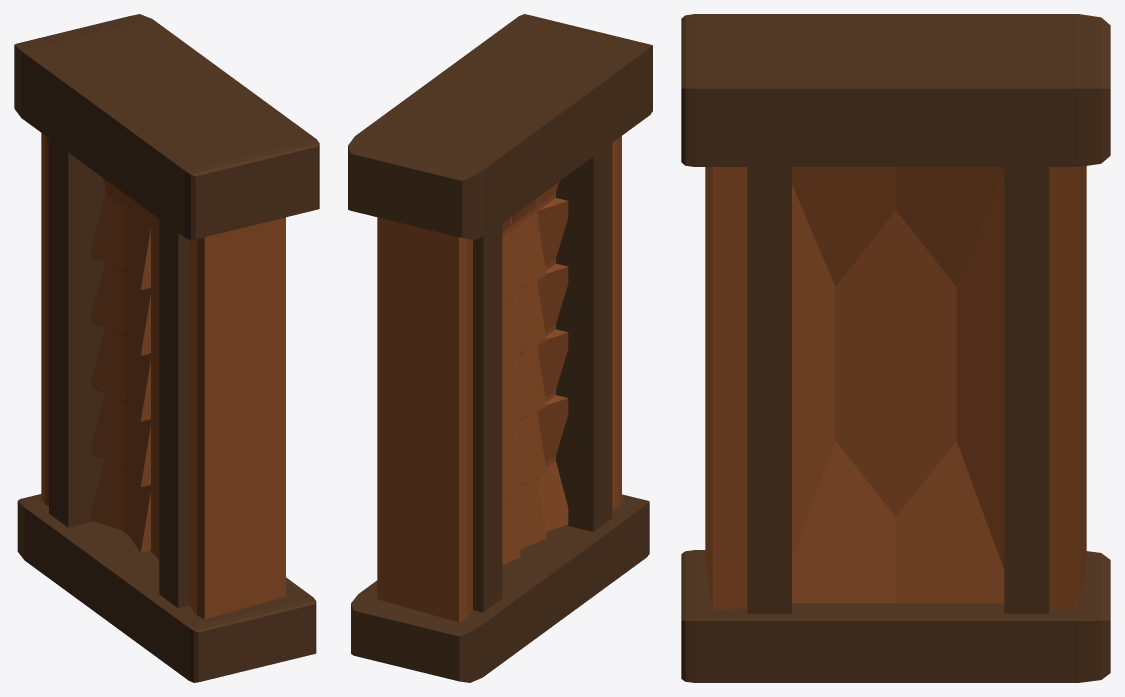
File: Door.fbx
3 views of the same model, side by side, from view 1: azimuth 30°, elevation 25°; view 2: azimuth 150°, elevation 25°; view 3: azimuth 270°, elevation 25° (orthographic). The views are drawn at different scales.
Parts seen in each view (by area): view 1: Cube, Cube.004, Cube.003, Cube.002, Cube.001; view 2: Cube, Cube.004, Cube.003, Cube.001, Cube.002; view 3: Cube, Cube.004, Cube.003, Cube.002, Cube.001.
Boxes of the visible parts, x1,y1,x2,y2 form: Cube: [41, 133, 285, 619]; Cube.004: [14, 14, 319, 240]; Cube.003: [17, 494, 316, 682]; Cube.002: [49, 138, 105, 527]; Cube.001: [159, 219, 189, 608]; Cube: [377, 136, 621, 622]; Cube.004: [348, 14, 652, 240]; Cube.003: [351, 494, 649, 682]; Cube.001: [556, 143, 612, 531]; Cube.002: [473, 223, 502, 612]; Cube: [705, 166, 1086, 609]; Cube.004: [681, 14, 1110, 166]; Cube.003: [681, 550, 1110, 682]; Cube.002: [1004, 167, 1049, 613]; Cube.001: [747, 167, 791, 613].
Bounding box in the file's own units: 291 × 1081 × 706.
